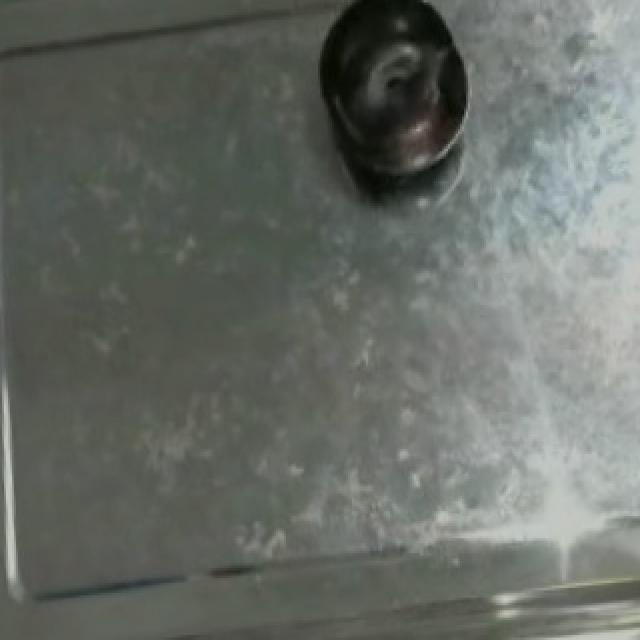Fruit: (296, 0, 478, 203)
